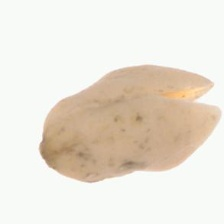L1: (158, 71, 222, 123), (37, 126, 65, 173)
L2: (38, 65, 222, 183)
